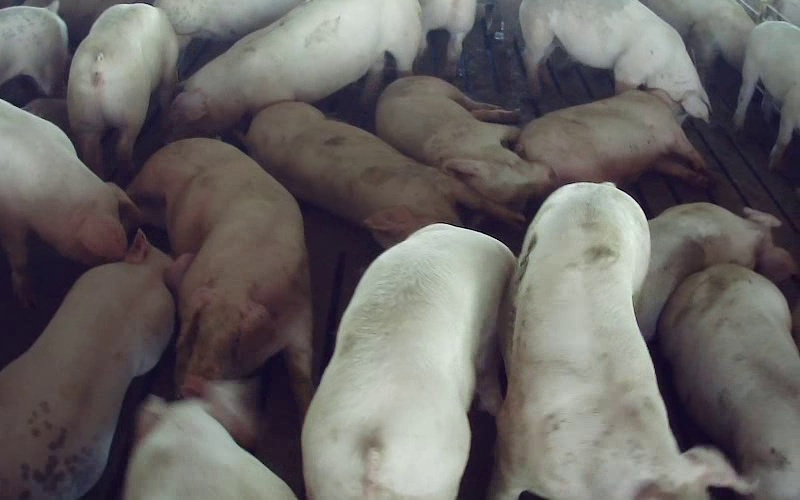pig: (492, 183, 747, 499), (303, 224, 514, 499), (0, 231, 190, 499), (244, 102, 519, 247), (658, 265, 799, 499), (376, 76, 554, 204), (519, 0, 709, 119), (635, 203, 795, 338), (124, 380, 295, 499), (67, 4, 178, 175), (516, 90, 707, 185), (733, 21, 799, 168), (642, 0, 754, 75)
